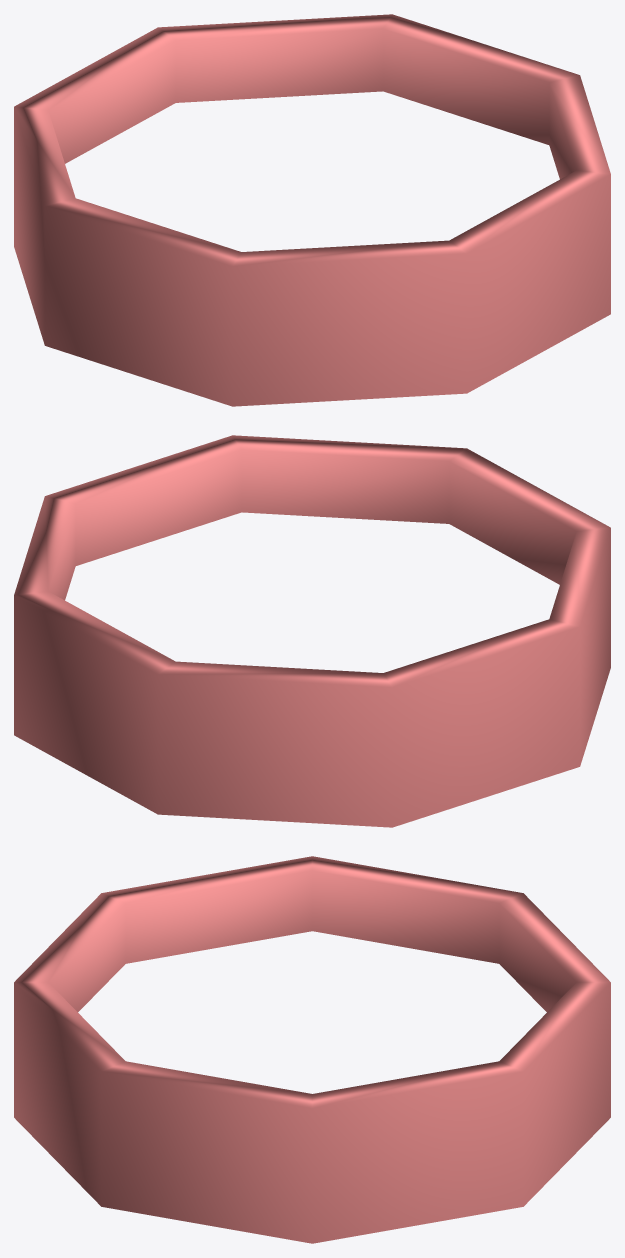
The model's file is entity430310.gltf.
The picture shows the model from 3 angles, top to bottom: view 1: azimuth 30°, elevation 25°; view 2: azimuth 150°, elevation 25°; view 3: azimuth 270°, elevation 25°; orthographic projection. The views are drawn at different scales.
Visible parts, largest first — view 1: node_pCylinder29; view 2: node_pCylinder29; view 3: node_pCylinder29.
Boxes of the visible parts, box(x1,y1,x2,y2) form: node_pCylinder29: box(14, 14, 610, 406); node_pCylinder29: box(14, 435, 610, 827); node_pCylinder29: box(14, 856, 610, 1243).
Size of the model in its own units: 4 by 1 by 4.
